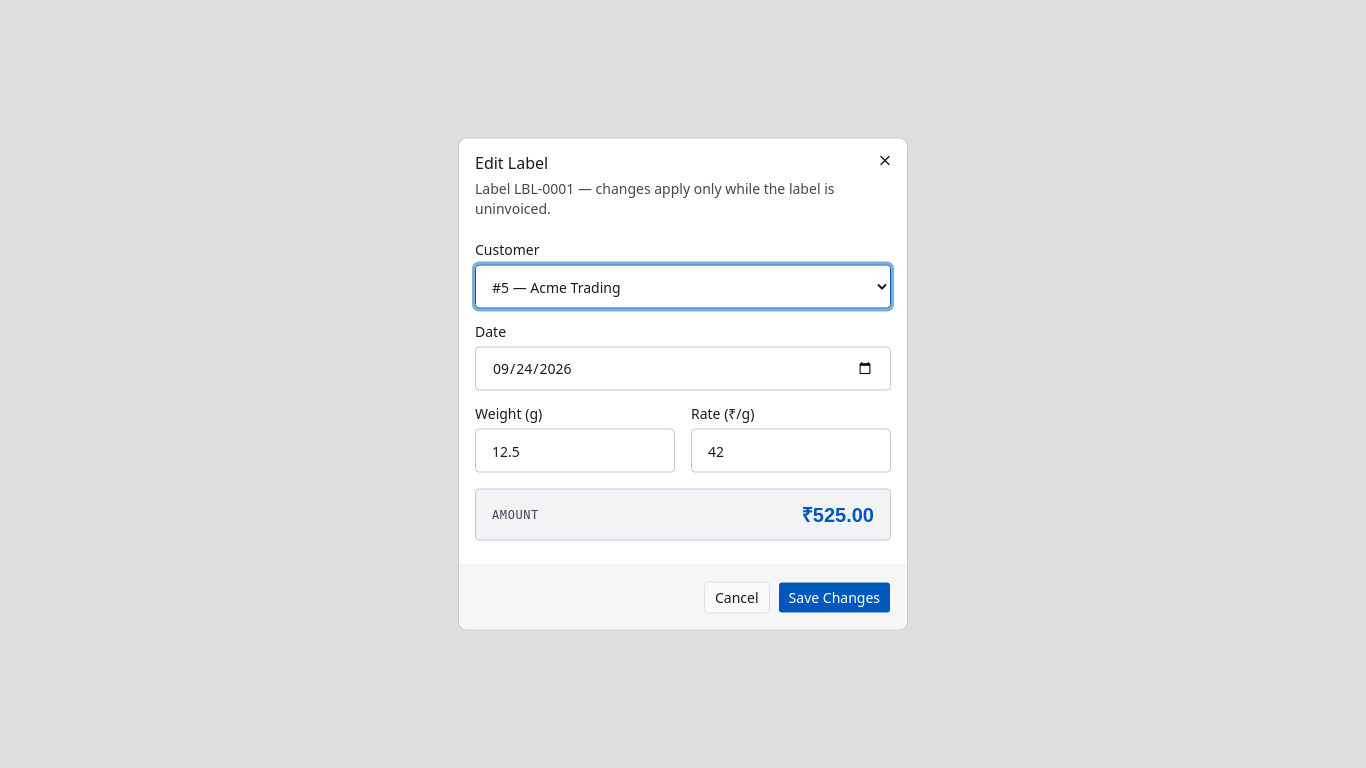
it: LabelEditDialog › rejects a negative rate
Replace the text in the number field labelled "Rate (₹/g)" with "-5" at point(791, 450), box 691,428 -> 891,472
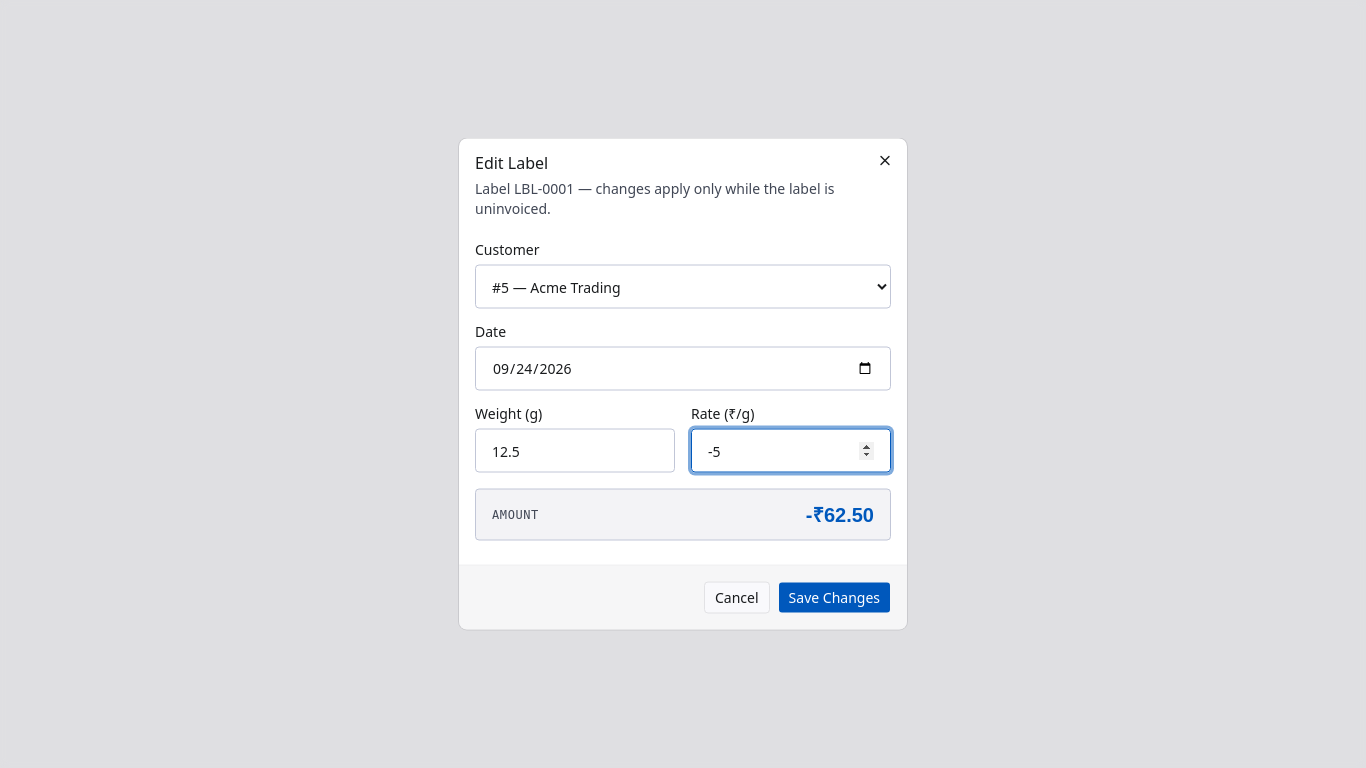
Click the button "Save Changes" at point(834, 598), box 778,582 -> 891,614
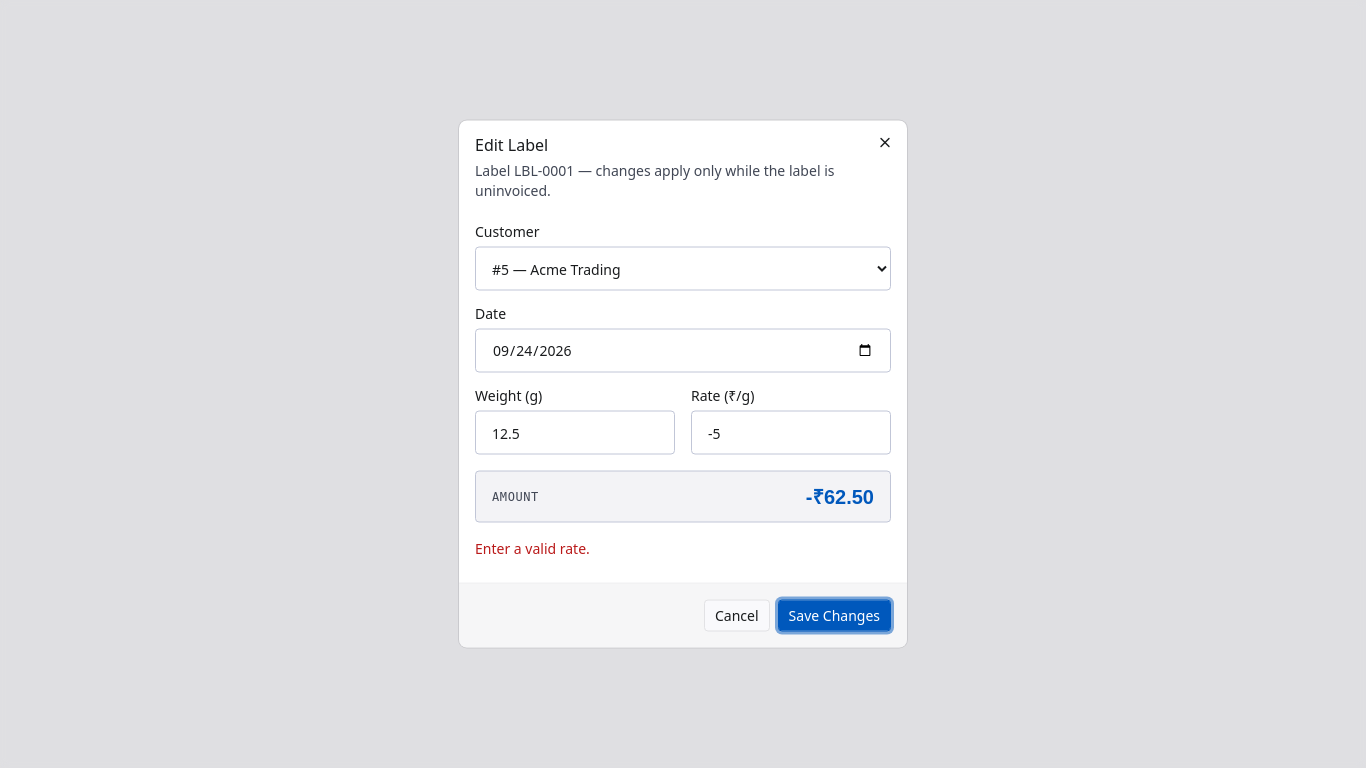
Expected: the text "Enter a valid rate." is shown, 475,538 -> 590,558
